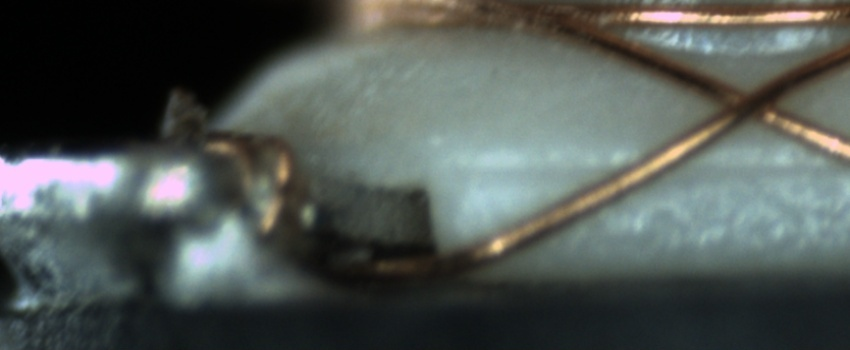CL: (694, 66, 805, 136)
DL: (474, 138, 849, 205)
TE: (192, 128, 306, 240)
